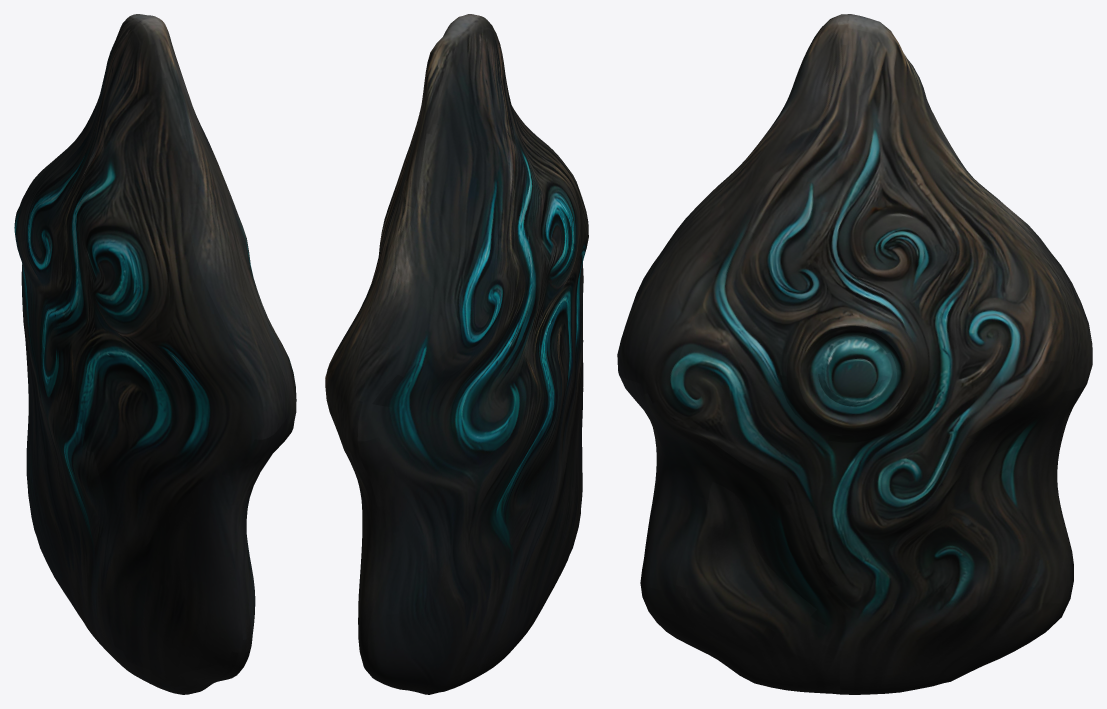
File: alien_instrument.glb
3 renders of one model, left to right at view 1: azimuth 30°, elevation 25°; view 2: azimuth 150°, elevation 25°; view 3: azimuth 270°, elevation 25°, orthographic. The views are drawn at different scales.
Visible parts, largest first — view 1: tripo_node_4d2dfc0d-22c0-45ad-98d0-498cf57e3fc8; view 2: tripo_node_4d2dfc0d-22c0-45ad-98d0-498cf57e3fc8; view 3: tripo_node_4d2dfc0d-22c0-45ad-98d0-498cf57e3fc8.
Boxes of the visible parts, box(x1,y1,x2,y2) form: tripo_node_4d2dfc0d-22c0-45ad-98d0-498cf57e3fc8: box(14, 14, 296, 694); tripo_node_4d2dfc0d-22c0-45ad-98d0-498cf57e3fc8: box(325, 14, 588, 694); tripo_node_4d2dfc0d-22c0-45ad-98d0-498cf57e3fc8: box(617, 14, 1092, 694).
Bounding box in the file's own units: 0.2324 × 0.9997 × 0.6397.
Materials: 1 (1 with a texture image).
